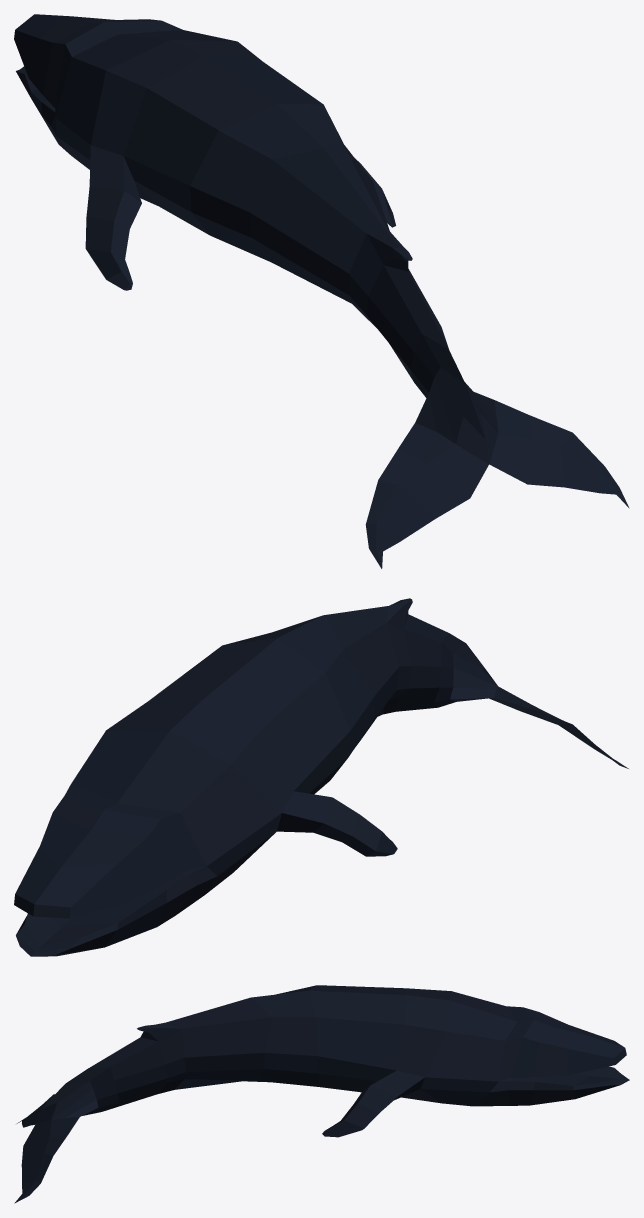
Rendered from SM_Whale_01.fbx.
3 renders of one model, top to bottom at view 1: azimuth 30°, elevation 25°; view 2: azimuth 150°, elevation 25°; view 3: azimuth 270°, elevation 25°, orthographic. The views are drawn at different scales.
Visible parts, largest first — view 1: Whale_001; view 2: Whale_001; view 3: Whale_001.
Boxes of the visible parts, bbox=[...] form: Whale_001: bbox=[14, 14, 629, 568]; Whale_001: bbox=[14, 598, 628, 956]; Whale_001: bbox=[14, 985, 629, 1203].
Bounding box in the file's own units: 451 × 405 × 1300.
